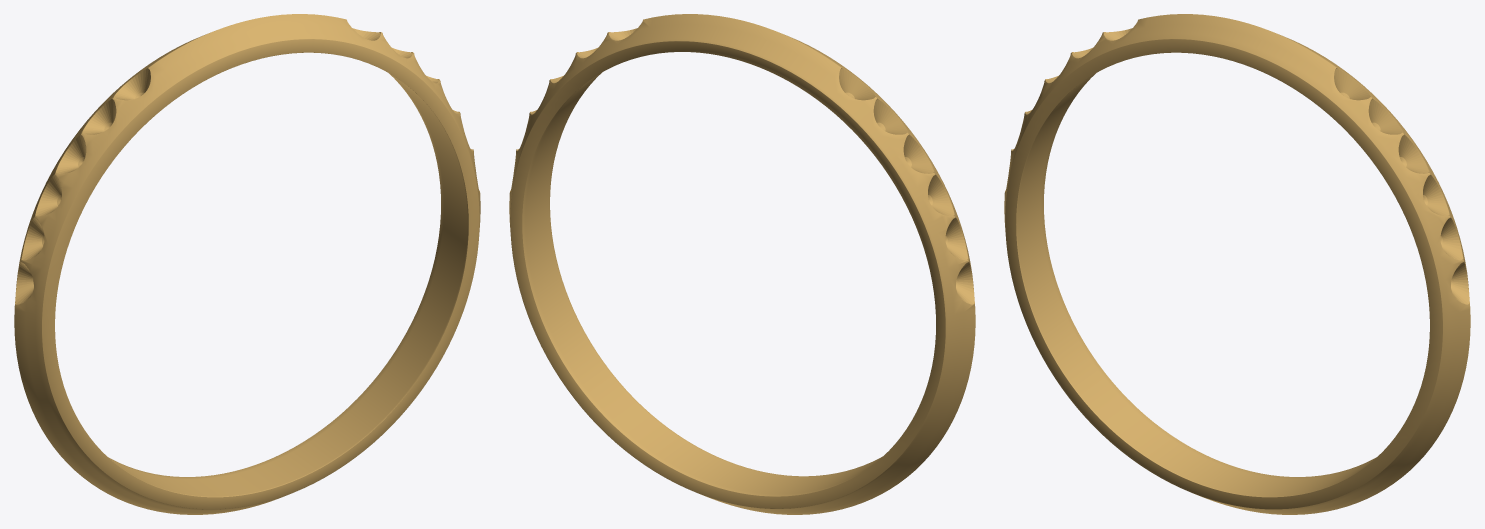
The model's file is knife-edge-bezel-accents.glb.
3 views of the same model, side by side, from view 1: azimuth 30°, elevation 25°; view 2: azimuth 150°, elevation 25°; view 3: azimuth 330°, elevation 25° (orthographic).
Parts seen in each view (by area): view 1: Band; view 2: Band; view 3: Band.
Part boxes in pixels (x1=…): Band: x1=14, y1=14, x2=480, y2=514; Band: x1=509, y1=14, x2=975, y2=514; Band: x1=1004, y1=14, x2=1470, y2=514.
Bounding box in the file's own units: 19.6 × 19.6 × 2.1.
